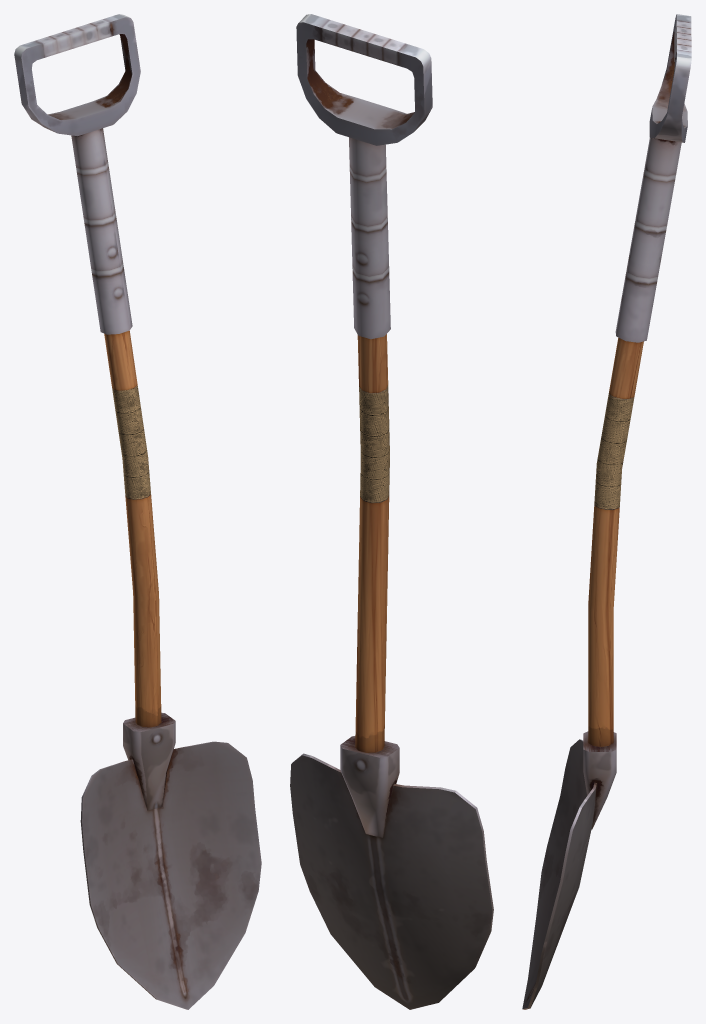
Rendered from Tools01_1.FBX.
The picture shows the model from 3 angles, left to right: view 1: azimuth 30°, elevation 25°; view 2: azimuth 150°, elevation 25°; view 3: azimuth 270°, elevation 25°; orthographic projection. The views are drawn at different scales.
Visible parts, largest first — view 1: Tools01_1; view 2: Tools01_1; view 3: Tools01_1.
Part boxes in pixels (x1,y1,x2,y2): Tools01_1: (14,14,261,1009); Tools01_1: (290,14,493,1009); Tools01_1: (522,14,691,1009).
Size of what is drawn, in the model's own units: 0.2842 by 1.43 by 0.2284.
